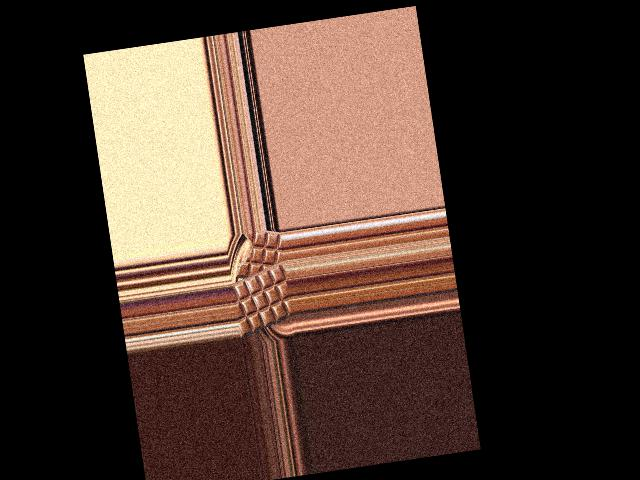chocolate: (230, 260, 295, 339)
